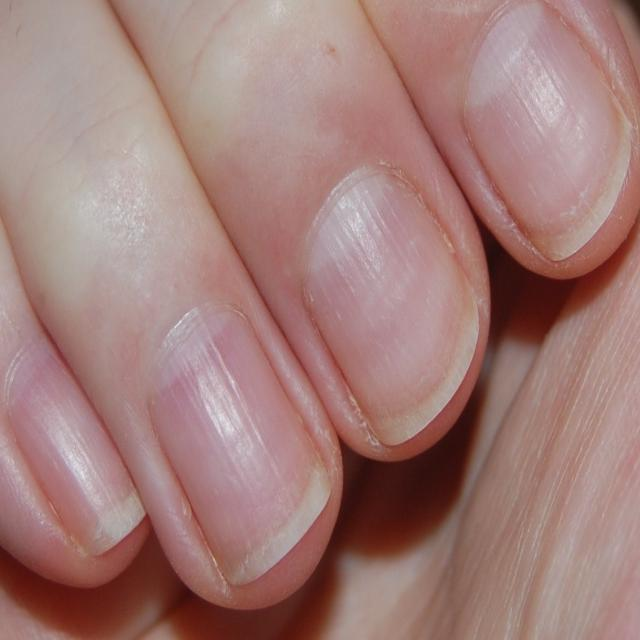Fingernail: (149, 307, 330, 585), (306, 169, 478, 445), (465, 3, 634, 260), (9, 351, 142, 555)
